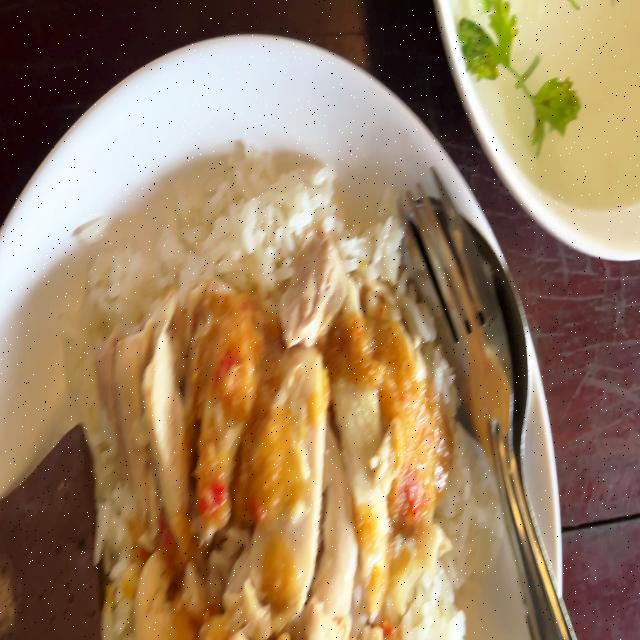boiled_chicken: (108, 284, 435, 640)
boiled_chicken_blood_jelly: (0, 422, 103, 640)
chicken_rice: (2, 166, 480, 640)
